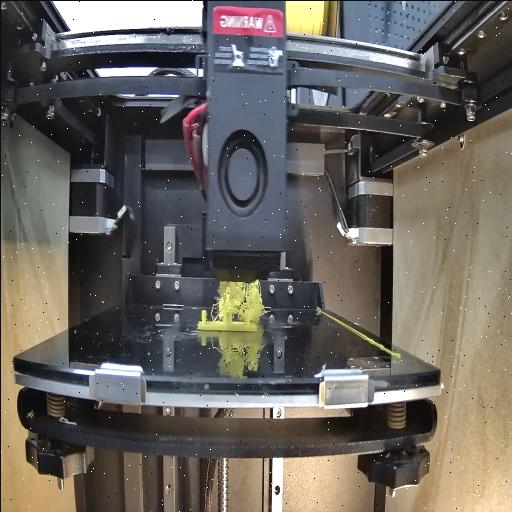spaghetti: (212, 276, 264, 320)
